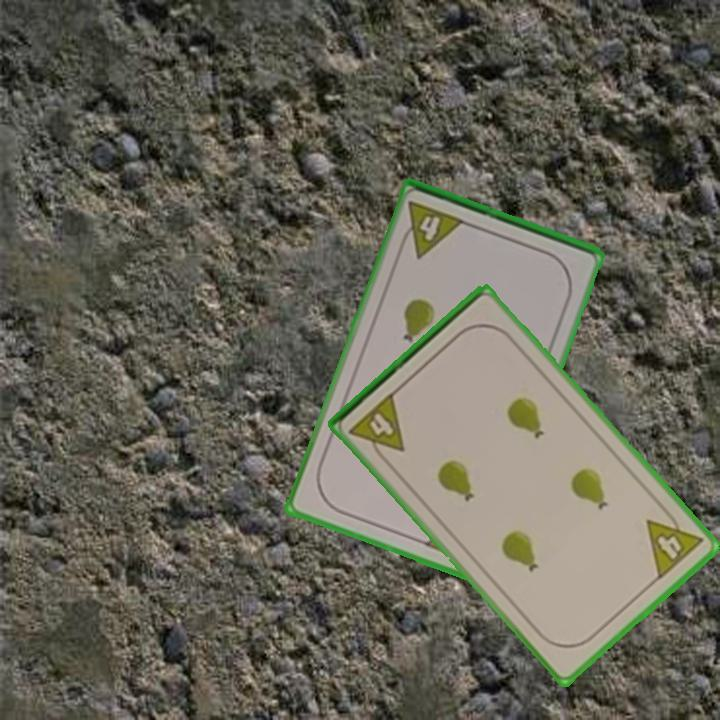4p: (642, 502, 707, 583), (346, 388, 408, 467), (395, 197, 468, 261)
